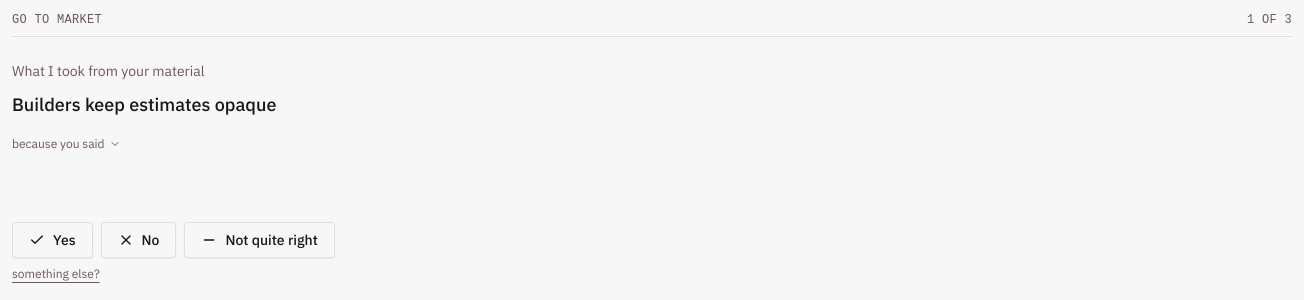
Test case: ReviewPass › omits the receipt control entirely when there is nothing to show
Click the button "Yes" at (52, 240), box [12,222,93,258]
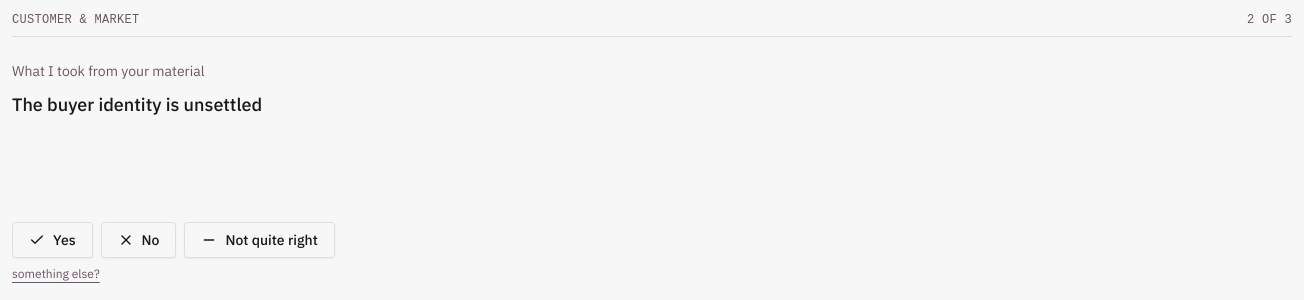
Expected: the text "The buyer identity is unsettled" is shown, [12,93,262,116]
Expected: the button "because you said" is gone
